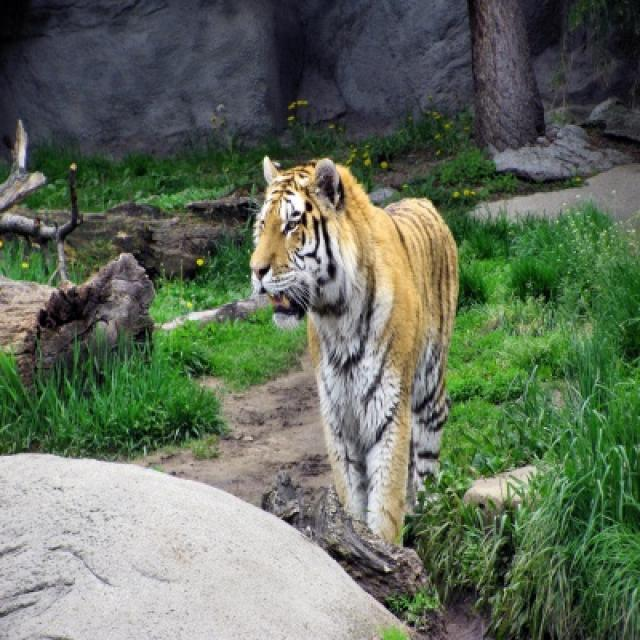Tiger: (247, 157, 463, 543)
